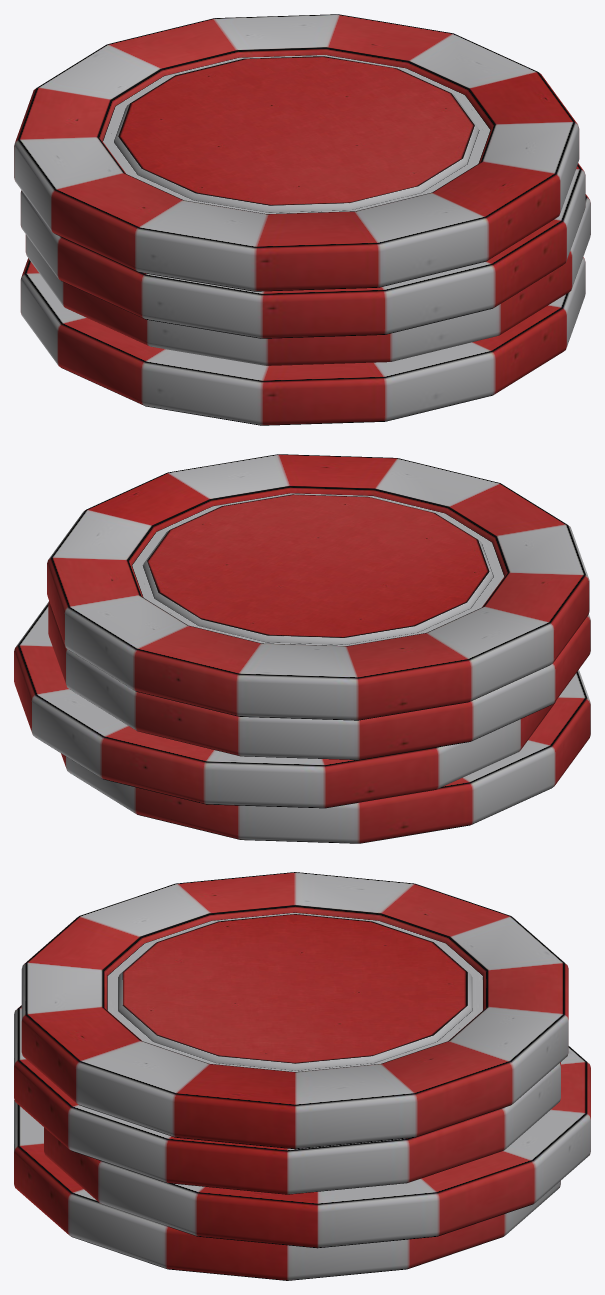
Rendered from poker_chip_stack_small.fbx.
3 renders of one model, top to bottom at view 1: azimuth 30°, elevation 25°; view 2: azimuth 150°, elevation 25°; view 3: azimuth 270°, elevation 25°, orthographic. The views are drawn at different scales.
Parts seen in each view (by area): view 1: poker_chip_stack_small; view 2: poker_chip_stack_small; view 3: poker_chip_stack_small.
Boxes of the visible parts, x1,y1,x2,y2 form: poker_chip_stack_small: (14,14,590,425); poker_chip_stack_small: (14,454,590,843); poker_chip_stack_small: (14,872,590,1280).
Size of the model in its own units: 12.25 by 4.01 by 12.04.
Materials: 1 (1 with a texture image).
